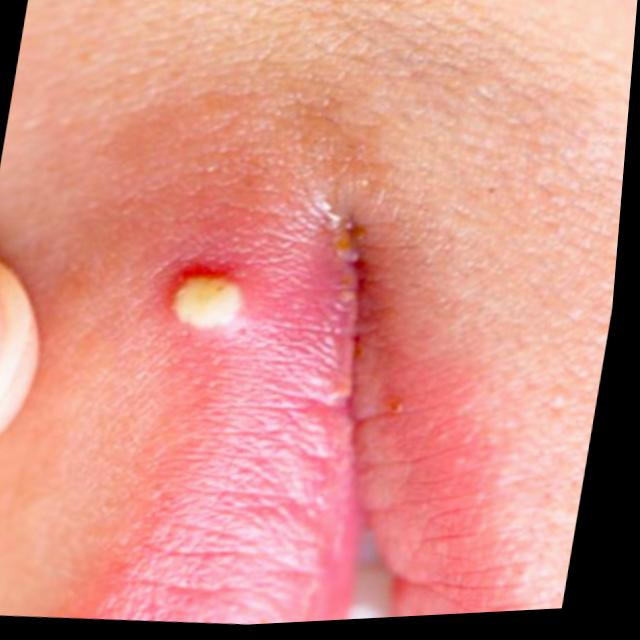pustule: (129, 244, 282, 377)
